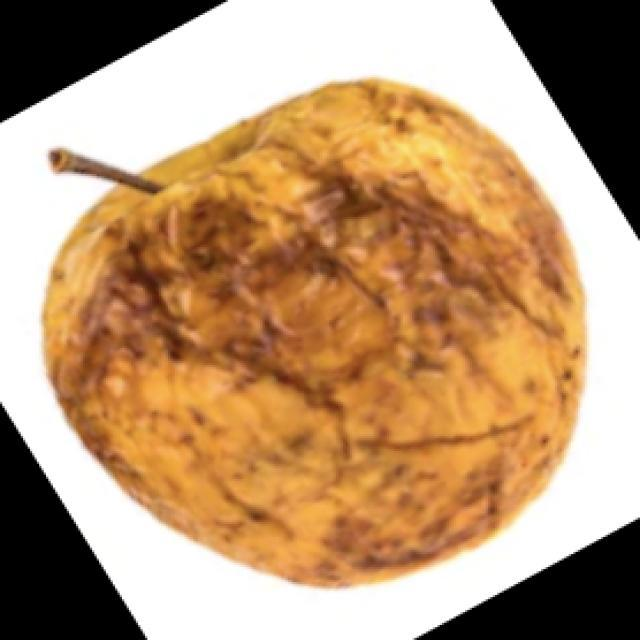Rotten: (26, 82, 586, 598)
